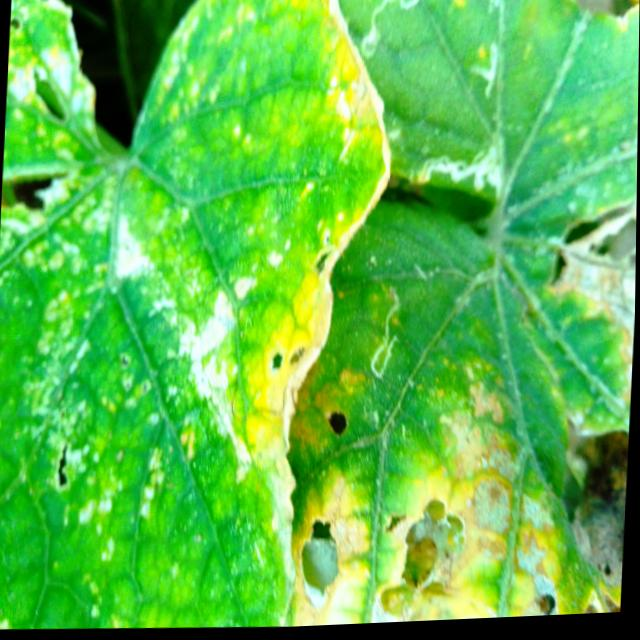Anthracnose: (293, 513, 347, 603), (0, 160, 71, 224), (320, 405, 352, 444)
